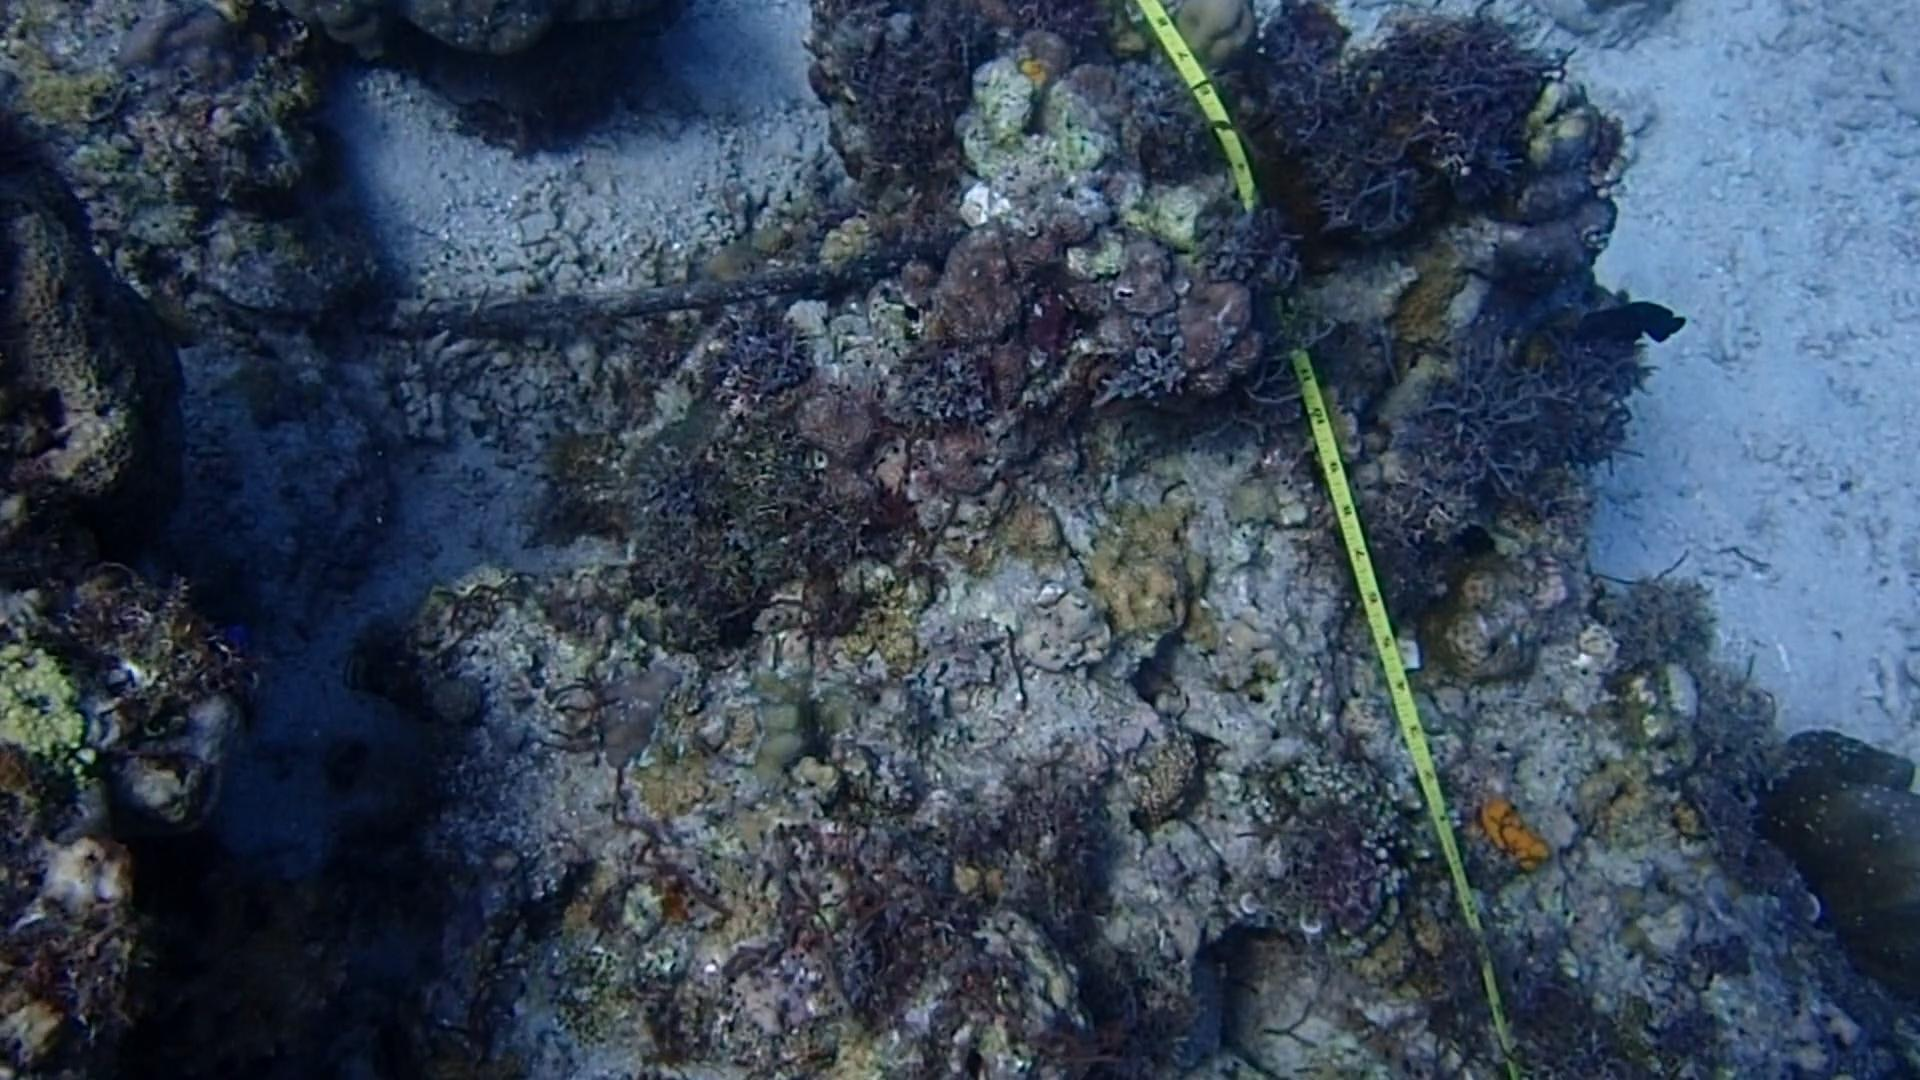Dark Fish: (1568, 293, 1692, 364)
